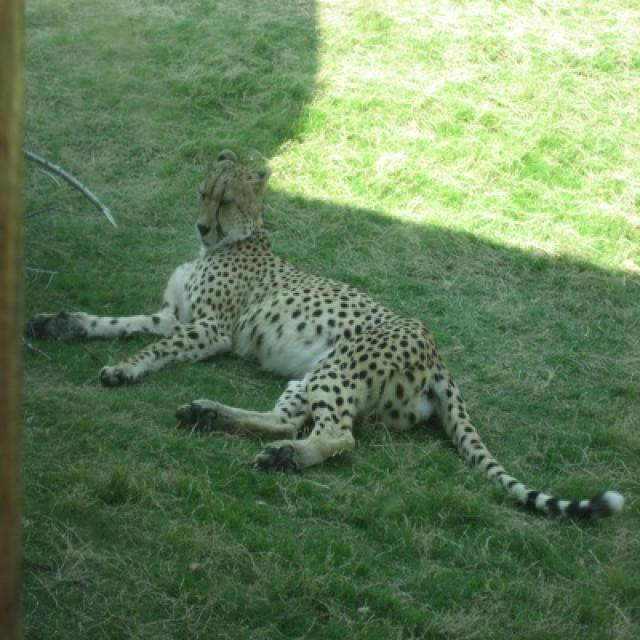Cheetah: (98, 152, 624, 523)
